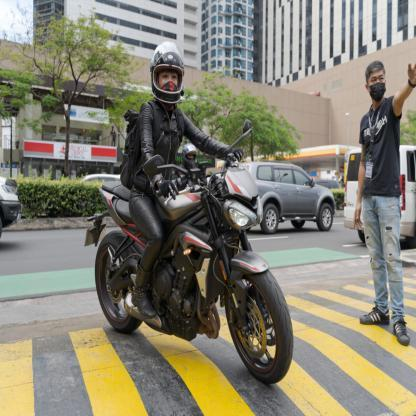helmet: (150, 42, 185, 105)
nohelmet: (365, 61, 387, 101)
